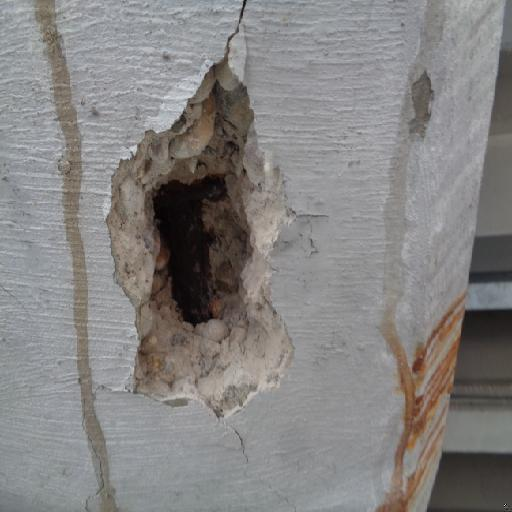exposed_rebar: (154, 176, 226, 324)
spalling: (107, 46, 293, 416)
